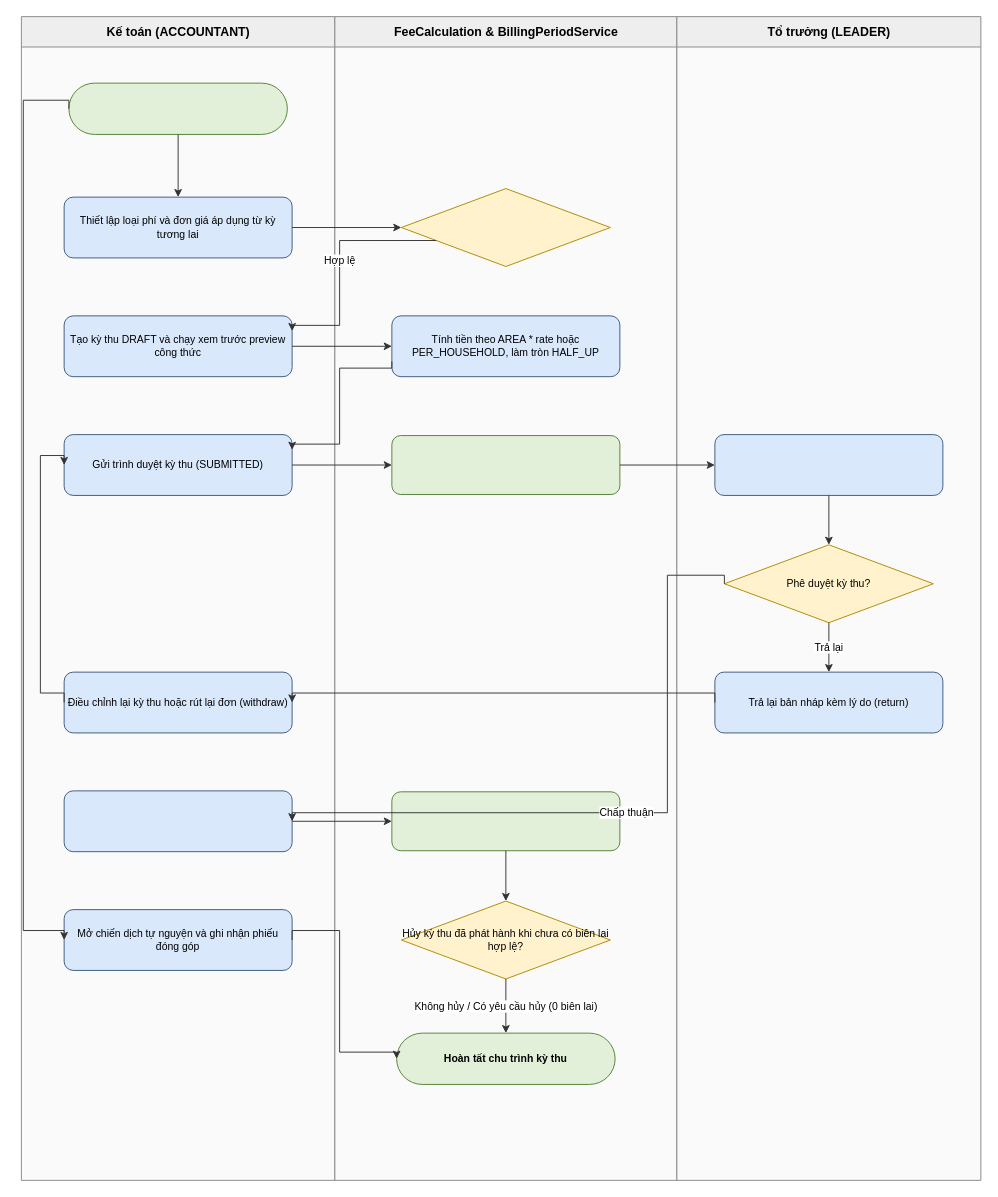
This 998x1197 diagram has some shape labels left out. The shapes that lost their labels are listed below. From the top down, each one's centre as x and y in pixels, then its label:
point 177,108: Bắt đầu nghiệp vụ thu phí
point 505,227: Đơn giá thay đổi không ảnh hưởng kỳ đã chốt?
point 505,464: Khóa snapshot danh sách hộ vào billing_submission_items
point 828,464: Kiểm tra danh sách hộ và tổng số tiền dự kiến
point 177,821: Phát hành chính thức hóa đơn (ISSUED)
point 505,821: Sinh bản ghi invoices và invoice_lines trạng thái UNPAID
